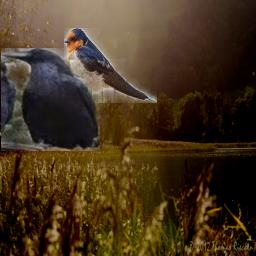Crow: (1, 48, 100, 151)
Swallow: (64, 28, 157, 103)
